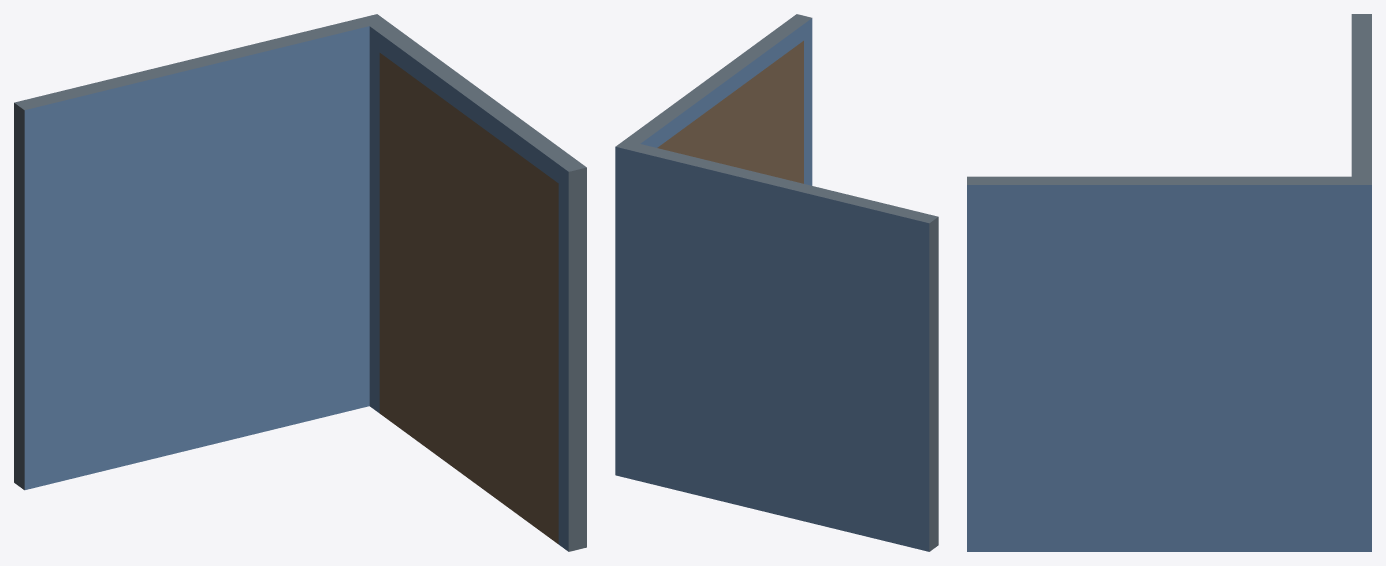
Rendered from Wall_5.gltf.
3 views of the same model, side by side, from view 1: azimuth 30°, elevation 25°; view 2: azimuth 150°, elevation 25°; view 3: azimuth 270°, elevation 25° (orthographic). The views are drawn at different scales.
Parts seen in each view (by area): view 1: SM_Wall_2_125_StaticMeshComponent0; view 2: SM_Wall_2_125_StaticMeshComponent0; view 3: SM_Wall_2_125_StaticMeshComponent0.
Part boxes in pixels (x1,y1,x2,y2): SM_Wall_2_125_StaticMeshComponent0: (14,14,586,551); SM_Wall_2_125_StaticMeshComponent0: (615,14,938,551); SM_Wall_2_125_StaticMeshComponent0: (967,14,1371,551).
Bounding box in the file's own units: 4 × 4 × 4.
1 material, 1 textured.
